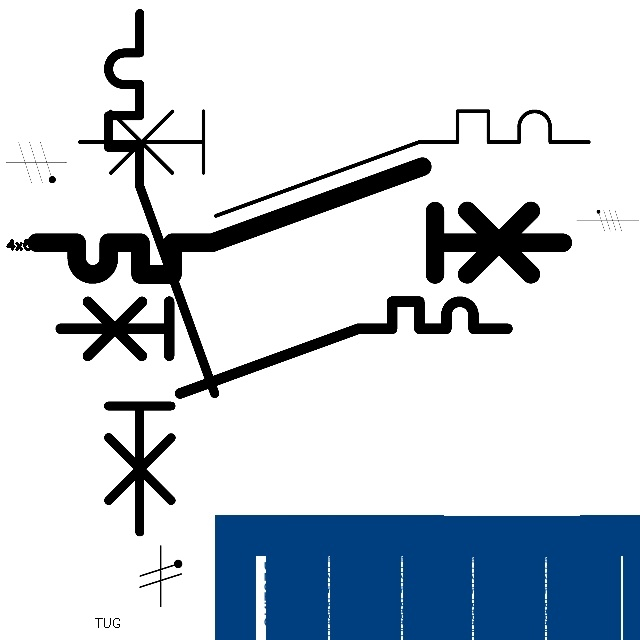interruptor_termomagnetico: (23, 153, 576, 288), (95, 0, 228, 545), (66, 98, 601, 229), (49, 290, 519, 405)
